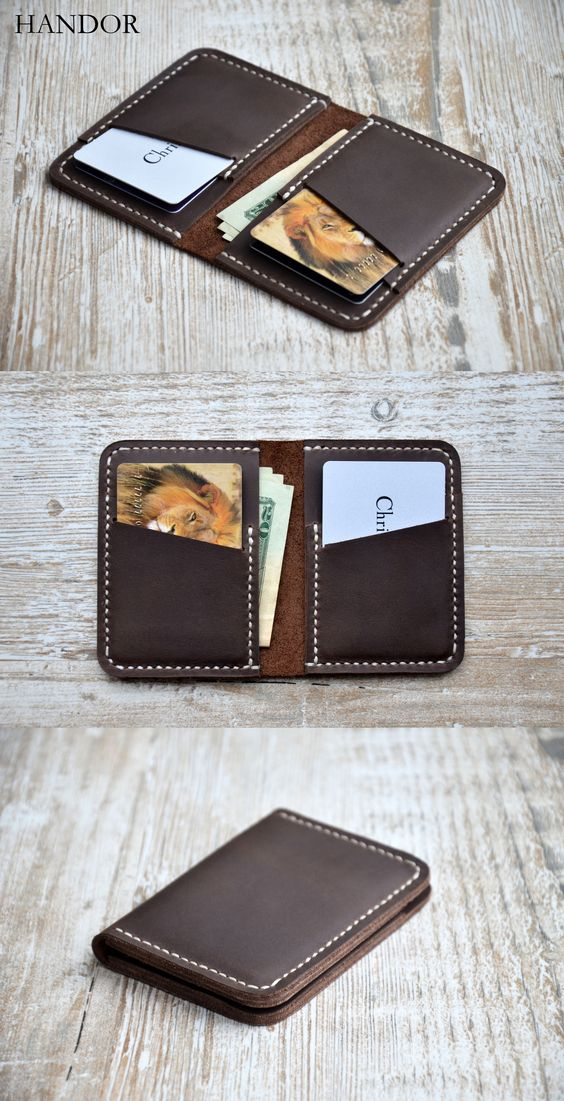monedero: (44, 44, 510, 339), (92, 434, 468, 685), (89, 804, 436, 1031)
